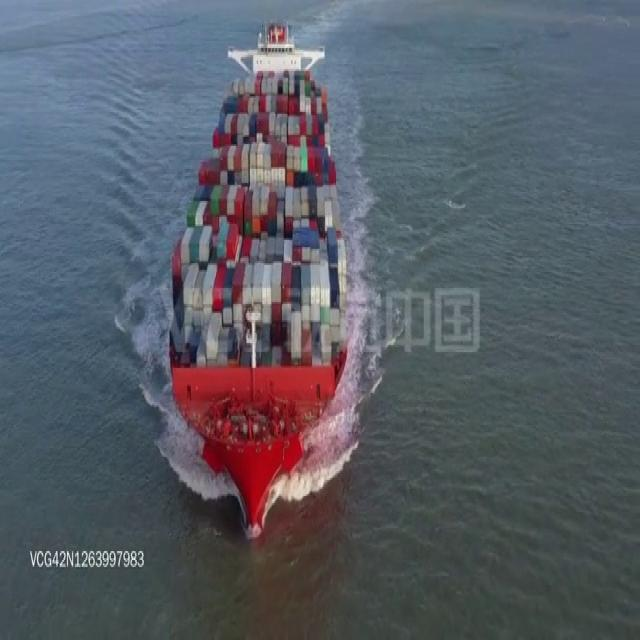cargoship: (168, 0, 349, 547)
